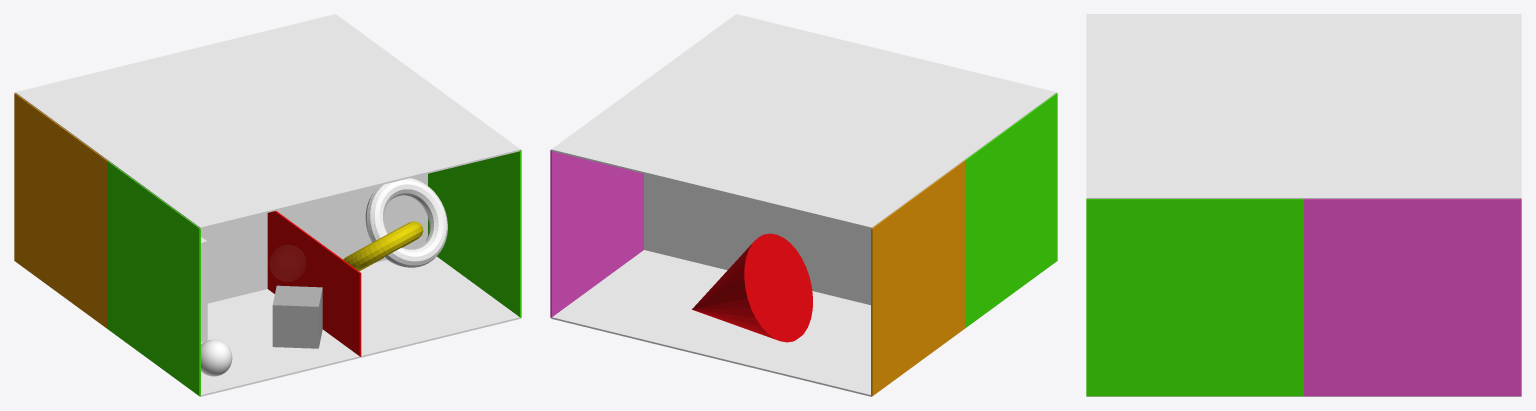
The model's file is cornell2.gltf.
The picture shows the model from 3 angles, left to right: view 1: azimuth 30°, elevation 25°; view 2: azimuth 150°, elevation 25°; view 3: azimuth 270°, elevation 25°; orthographic projection. The views are drawn at different scales.
Parts seen in each view (by area): view 1: cube_instance_3.001, cube_instance_3, cube_instance_2.001, cube_instance_5.002, cube_instance_5.001, cube_instance_5.003, cube_instance, cube_instance_6, Torus.001, cube_instance_14, Torus, sphere_instance_22 (+1 smaller); view 2: cube_instance_3, cube_instance_3.001, cube_instance_2, cube_instance_5.001, cube_instance_5.002, cube_instance, cube_instance_5, Cone; view 3: cube_instance_5, cube_instance_5.003, cube_instance_3, cube_instance_3.001.
Part boxes in pixels (left/top/right/bottom): cube_instance_3.001: left=107, top=82, right=520, bottom=229; cube_instance_3: left=15, top=14, right=427, bottom=160; cube_instance_2.001: left=199, top=256, right=520, bottom=396; cube_instance_5.002: left=107, top=160, right=200, bottom=396; cube_instance_5.001: left=14, top=93, right=107, bottom=328; cube_instance_5.003: left=428, top=150, right=521, bottom=317; cube_instance: left=201, top=174, right=427, bottom=303; cube_instance_6: left=267, top=211, right=361, bottom=356; Torus.001: left=365, top=178, right=447, bottom=267; cube_instance_14: left=272, top=285, right=322, bottom=348; Torus: left=343, top=221, right=423, bottom=271; sphere_instance_22: left=201, top=339, right=232, bottom=376; cube_instance_3: left=551, top=82, right=964, bottom=229; cube_instance_3.001: left=644, top=14, right=1056, bottom=160; cube_instance_2: left=551, top=250, right=872, bottom=396; cube_instance_5.001: left=871, top=160, right=964, bottom=396; cube_instance_5.002: left=964, top=93, right=1057, bottom=328; cube_instance: left=644, top=174, right=870, bottom=305; cube_instance_5: left=550, top=150, right=643, bottom=317; Cone: left=692, top=233, right=812, bottom=342; cube_instance_5: left=1304, top=199, right=1521, bottom=396; cube_instance_5.003: left=1086, top=199, right=1303, bottom=396; cube_instance_3: left=1304, top=14, right=1521, bottom=198; cube_instance_3.001: left=1086, top=14, right=1303, bottom=198.
Size of the model in its own units: 20.1 by 10.1 by 20.
